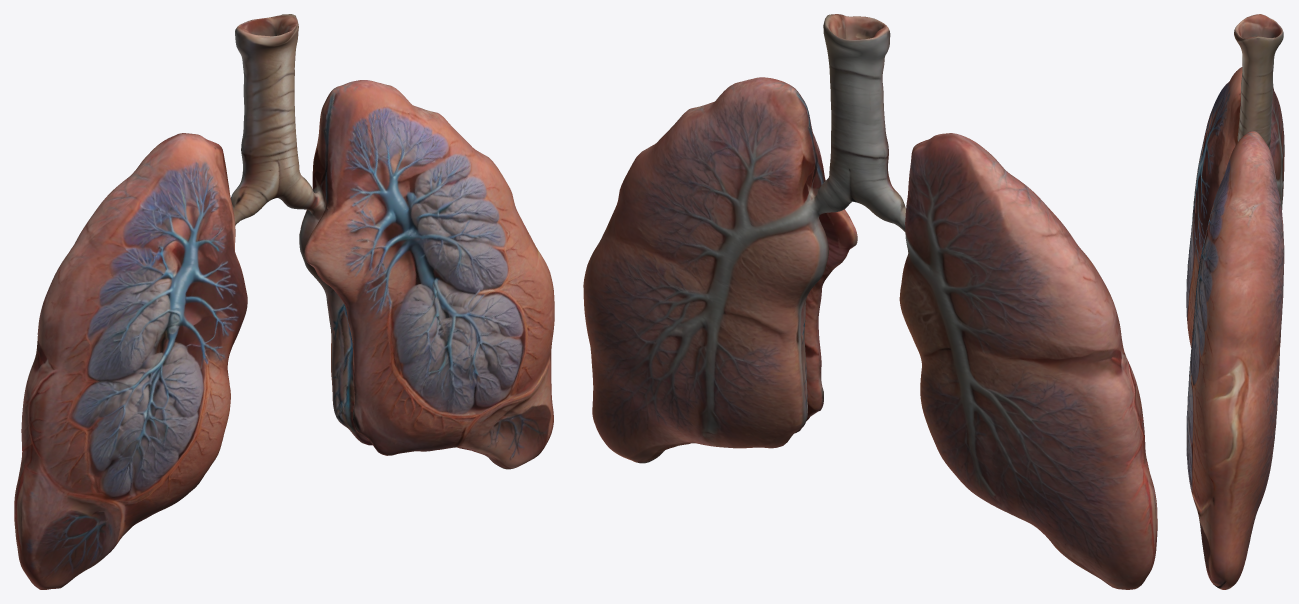
File: stylizedhumanlungs.fbx
3 renders of one model, left to right at view 1: azimuth 30°, elevation 25°; view 2: azimuth 150°, elevation 25°; view 3: azimuth 270°, elevation 25°, orthographic. The views are drawn at different scales.
Parts seen in each view (by area): view 1: StylizedHumanLungs_Mesh; view 2: StylizedHumanLungs_Mesh; view 3: StylizedHumanLungs_Mesh.
Part boxes in pixels (box(x1,y1,x2,y2)): StylizedHumanLungs_Mesh: box(14, 14, 554, 589); StylizedHumanLungs_Mesh: box(583, 14, 1157, 589); StylizedHumanLungs_Mesh: box(1186, 14, 1284, 589).
Size of the model in its own units: 34.9 by 31.02 by 5.92.
1 material, 1 textured.
